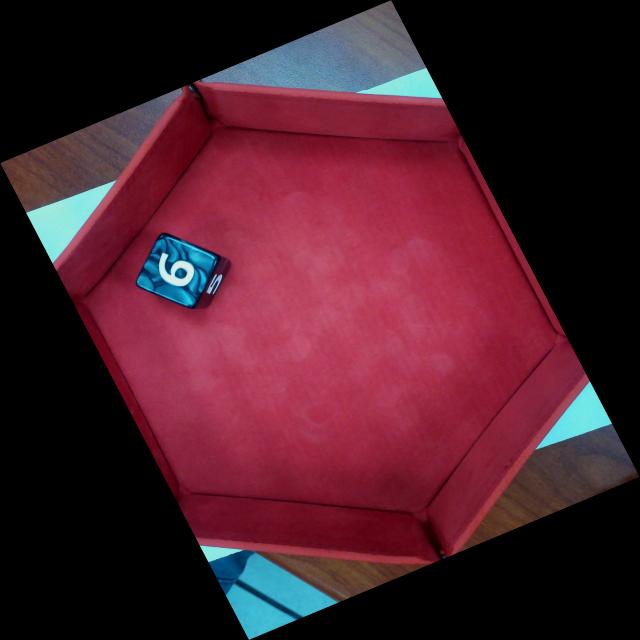dice: (131, 229, 221, 310)
